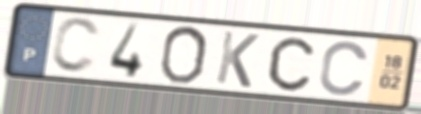4: (105, 20, 148, 81)
C: (48, 16, 104, 77), (317, 39, 372, 99), (266, 35, 317, 94)
K: (213, 28, 262, 90)
O: (156, 24, 211, 86)
